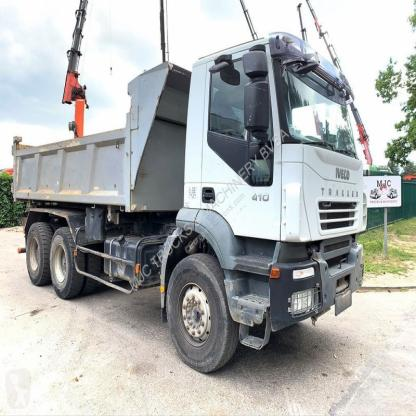dump_truck: (11, 35, 372, 380)
